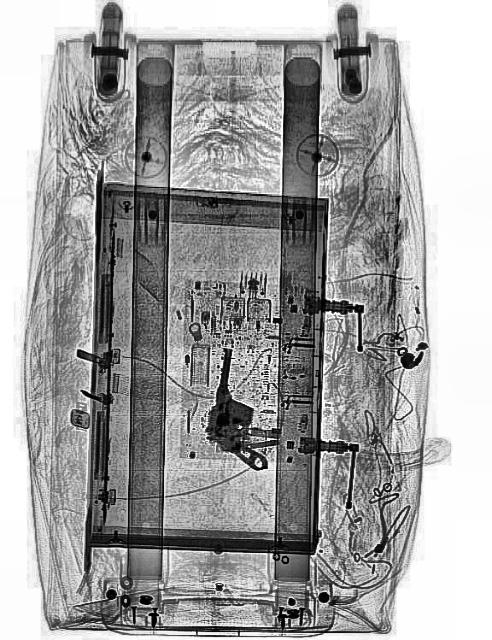Gun: (202, 344, 276, 472)
